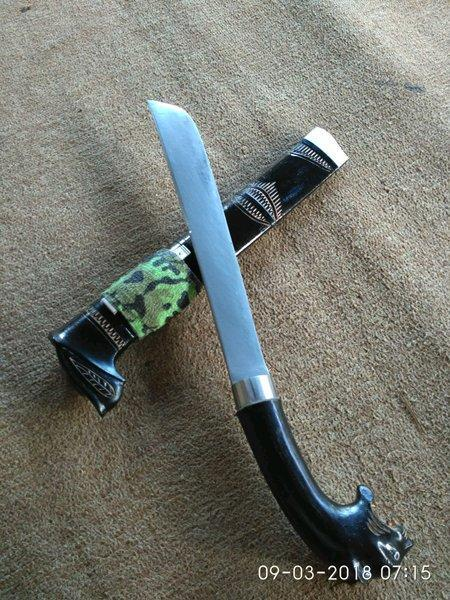espada: (138, 91, 428, 587)
